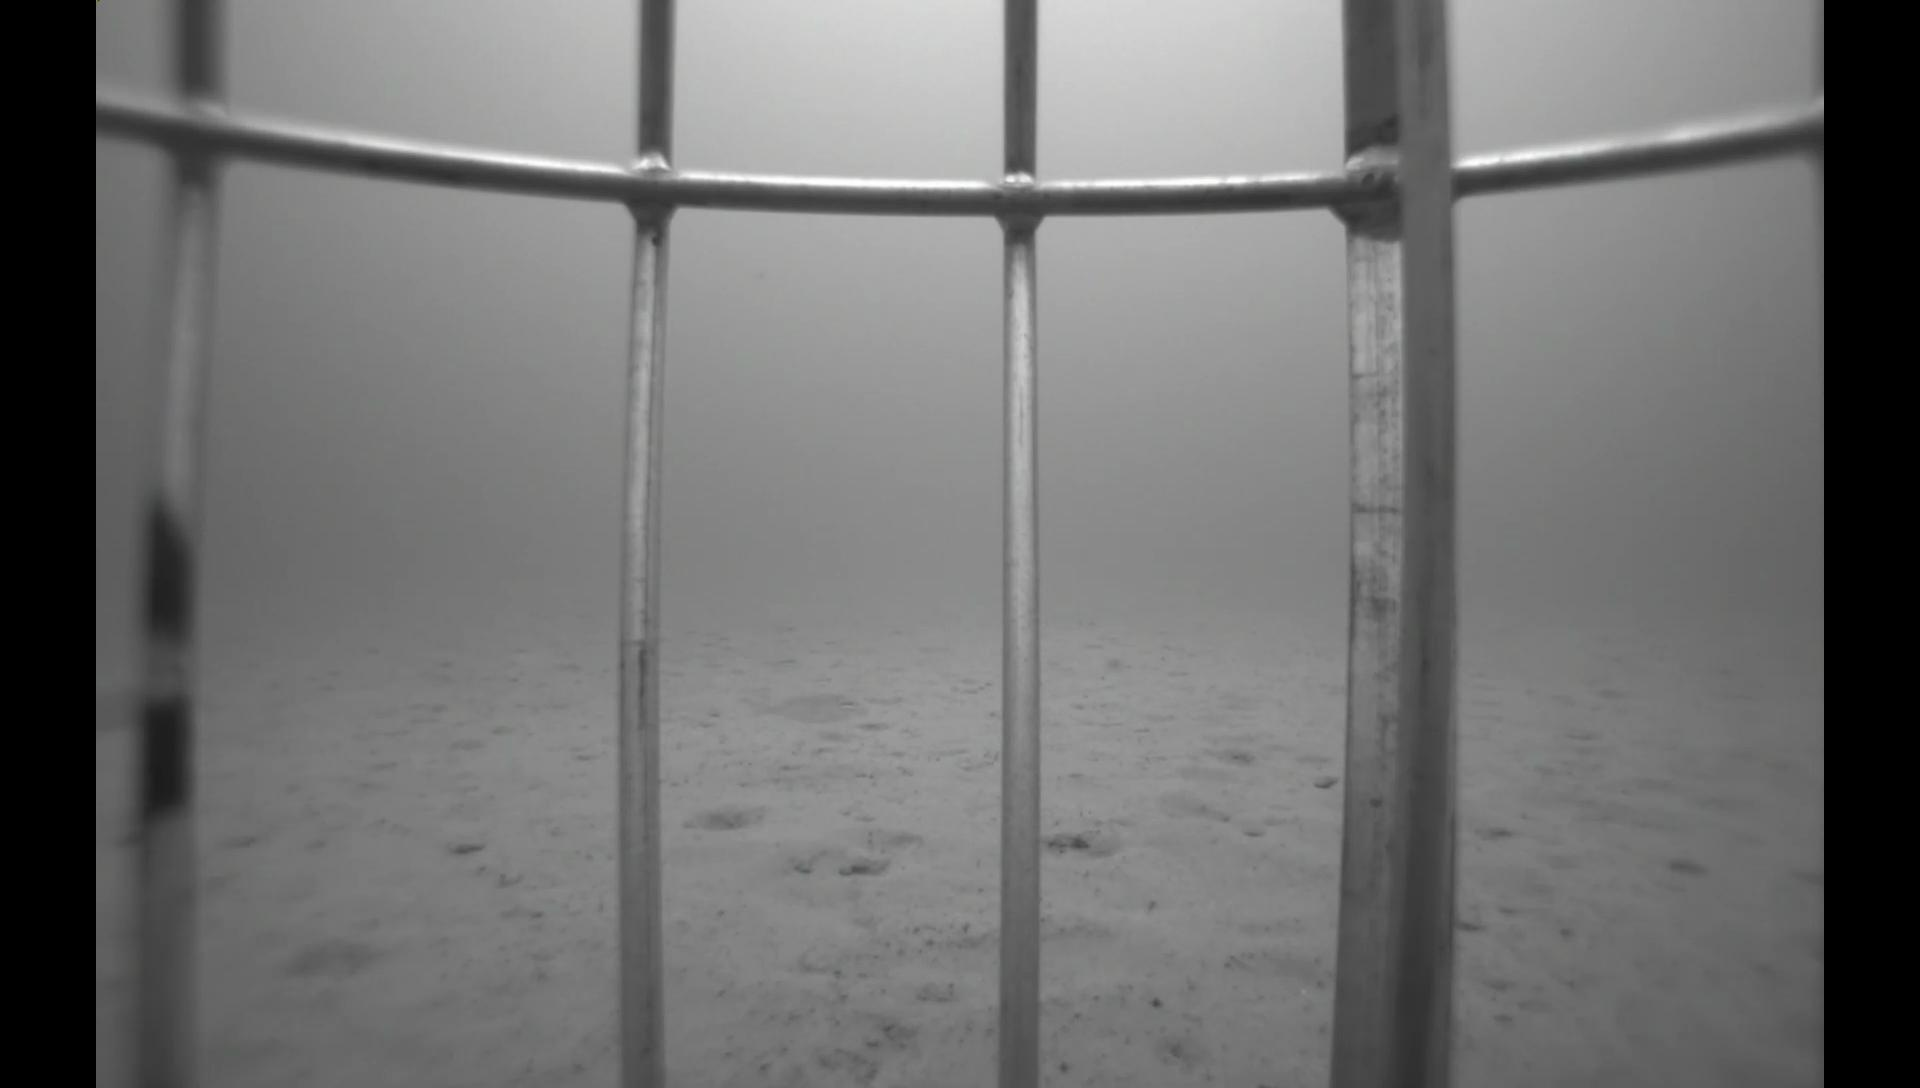PRISTIPOMOIDES-170151800: (738, 680, 884, 739)
